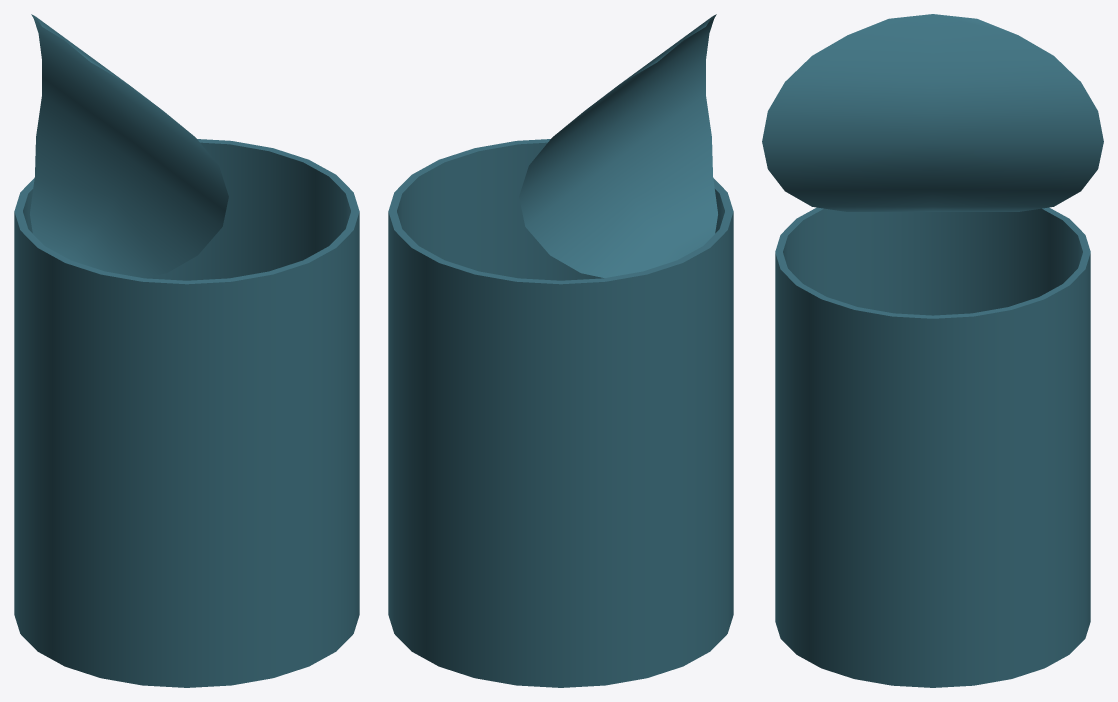
File: SM_SmallTrashkit_Tomatobottle_001.fbx
The picture shows the model from 3 angles, left to right: view 1: azimuth 30°, elevation 25°; view 2: azimuth 150°, elevation 25°; view 3: azimuth 270°, elevation 25°; orthographic projection. The views are drawn at different scales.
Visible parts, largest first — view 1: SM_SmallTrashkit_Tomatobottle_001; view 2: SM_SmallTrashkit_Tomatobottle_001; view 3: SM_SmallTrashkit_Tomatobottle_001.
Boxes of the visible parts, bbox=[...] form: SM_SmallTrashkit_Tomatobottle_001: bbox=[14, 14, 359, 687]; SM_SmallTrashkit_Tomatobottle_001: bbox=[388, 14, 733, 687]; SM_SmallTrashkit_Tomatobottle_001: bbox=[762, 14, 1103, 687].
Size of the model in its own units: 12.34 by 23.84 by 13.37.
